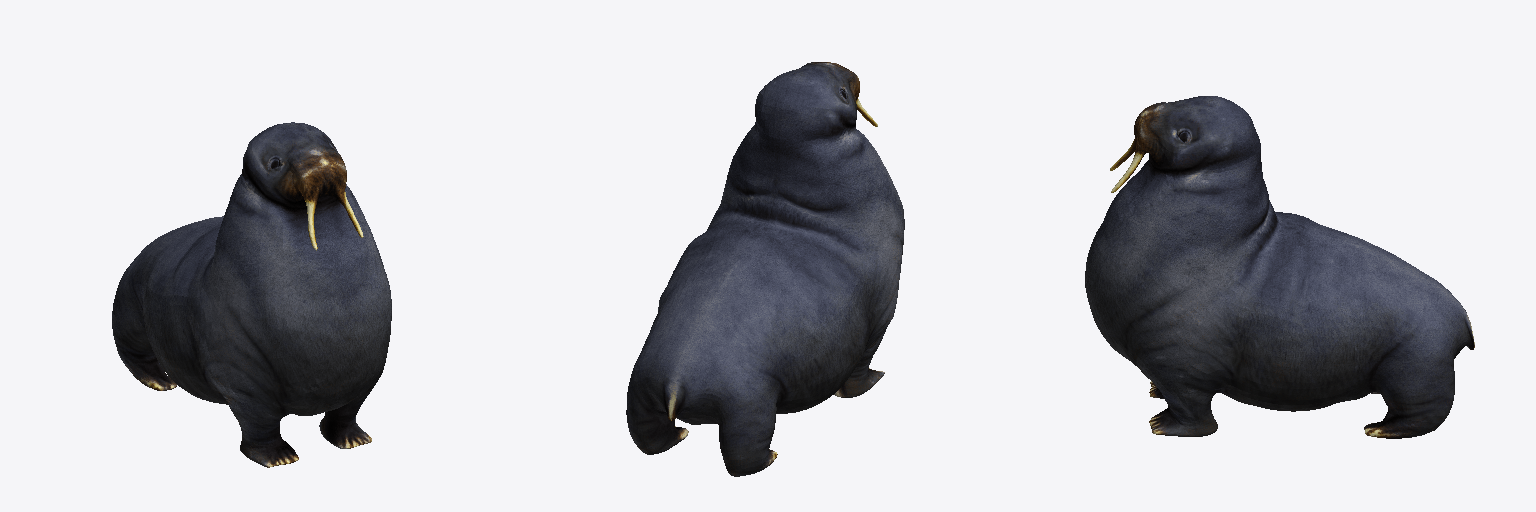
The picture shows the model from 3 angles: view 1: azimuth 30°, elevation 25°; view 2: azimuth 150°, elevation 25°; view 3: azimuth 270°, elevation 25°; orthographic projection.
Parts seen in each view (by area): view 1: Walrus_Quad; view 2: Walrus_Quad; view 3: Walrus_Quad.
Boxes of the visible parts, <box> form: Walrus_Quad: <box>112,122,391,467</box>; Walrus_Quad: <box>626,62,904,476</box>; Walrus_Quad: <box>1085,96,1474,438</box>.
Size of the model in its own units: 0.8637 by 1.47 by 1.66.
1 materials, 1 textured.